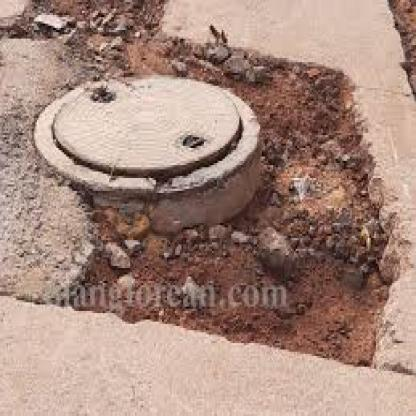closed manhole-not overflowing-: (37, 75, 280, 243)
